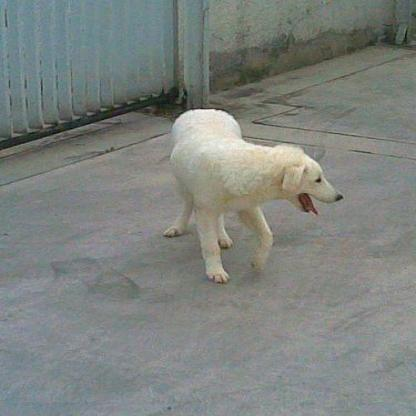kuvasz: (160, 108, 345, 284)
